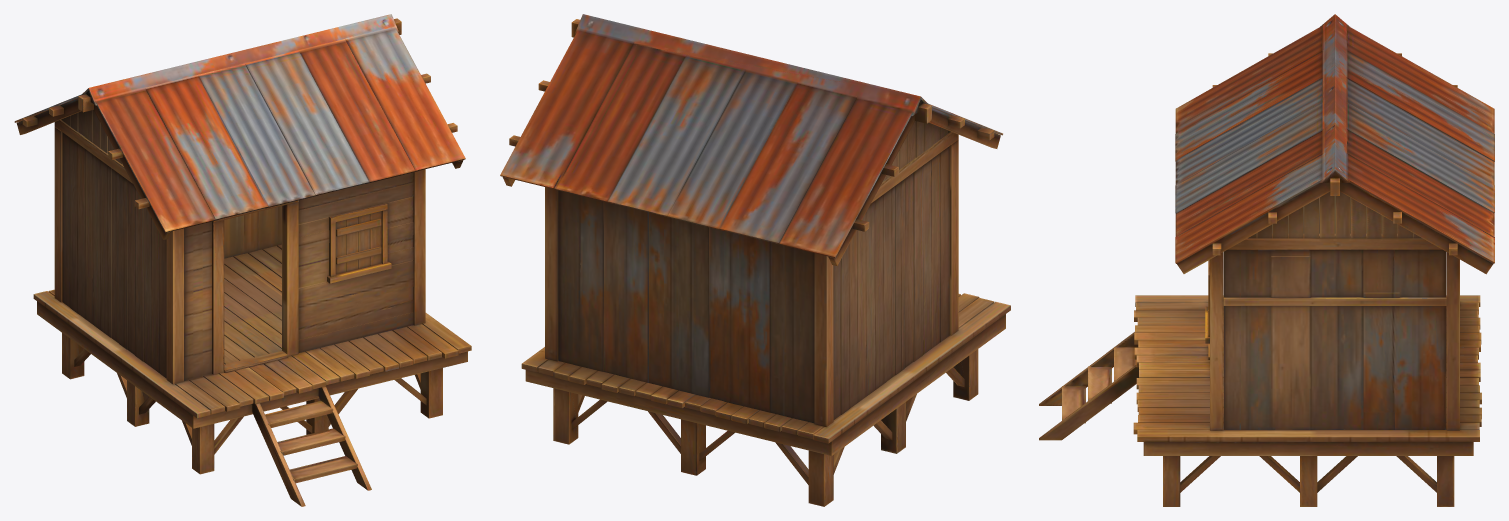
The model's file is houdini_stilt_shack_phantasm.glb.
3 renders of one model, left to right at view 1: azimuth 30°, elevation 25°; view 2: azimuth 150°, elevation 25°; view 3: azimuth 270°, elevation 25°, orthographic. The views are drawn at different scales.
Parts seen in each view (by area): view 1: LOD0; view 2: LOD0; view 3: LOD0.
Part boxes in pixels (x1,y1,x2,y2): LOD0: [14, 14, 471, 506]; LOD0: [500, 14, 1010, 506]; LOD0: [1039, 14, 1494, 506].
Size of what is drawn, in the model's own units: 4.04 by 4.05 by 4.74.
1 material, 1 textured.
